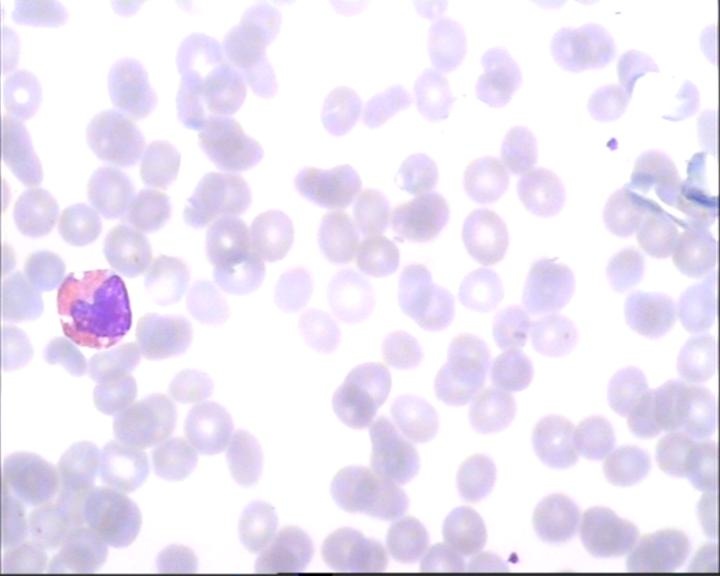eosi: (50, 261, 133, 356)
